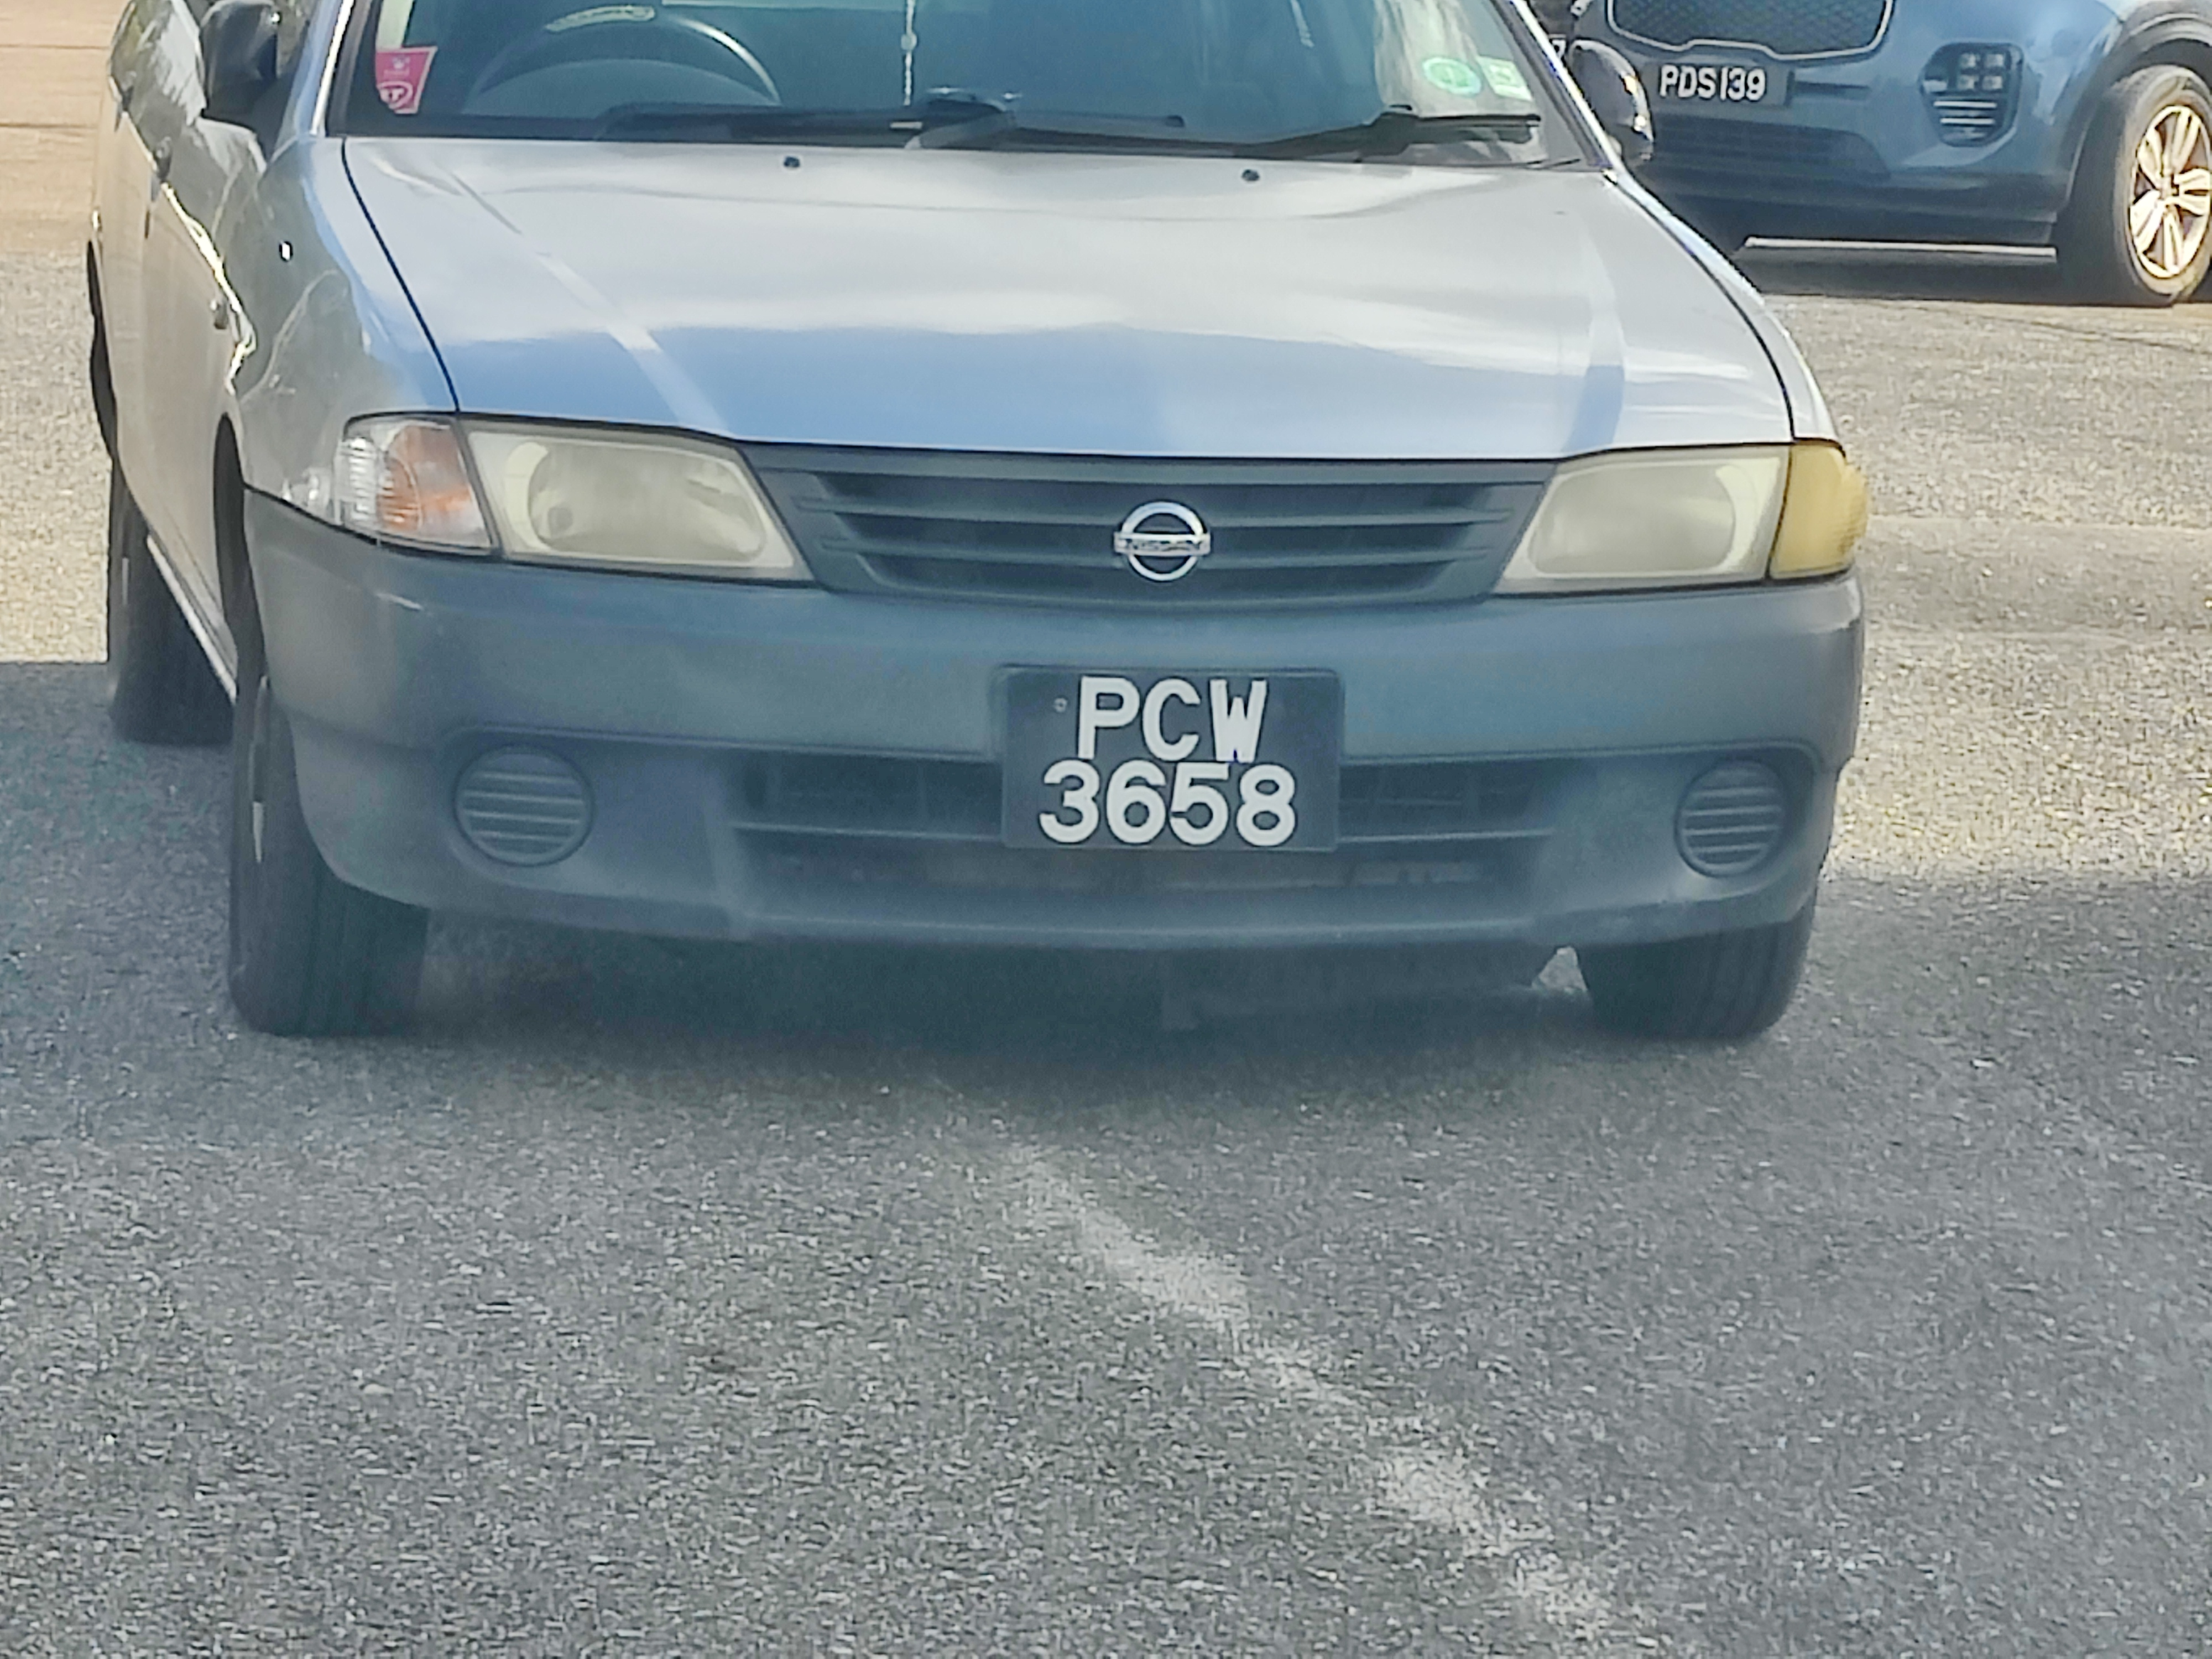License-Plate: (1010, 665, 1337, 845), (1653, 59, 1785, 97)
